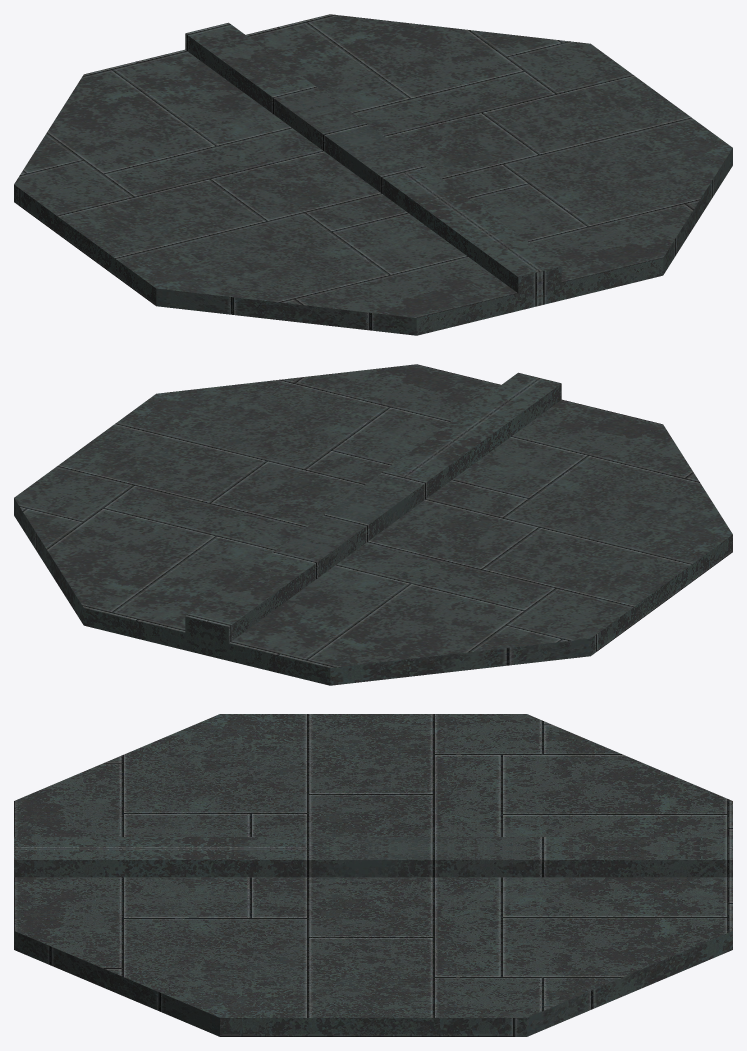
Rendered from DepotHatch.fbx.
3 renders of one model, top to bottom at view 1: azimuth 30°, elevation 25°; view 2: azimuth 150°, elevation 25°; view 3: azimuth 270°, elevation 25°, orthographic. The views are drawn at different scales.
Visible parts, largest first — view 1: Cube.291; view 2: Cube.291; view 3: Cube.291.
Boxes of the visible parts, <box> form: Cube.291: <box>14,14,732,335</box>; Cube.291: <box>14,364,732,685</box>; Cube.291: <box>14,714,732,1036</box>.
Size of the model in its own units: 89.25 by 5.02 by 89.25.
Materials: 1 (1 with a texture image).
